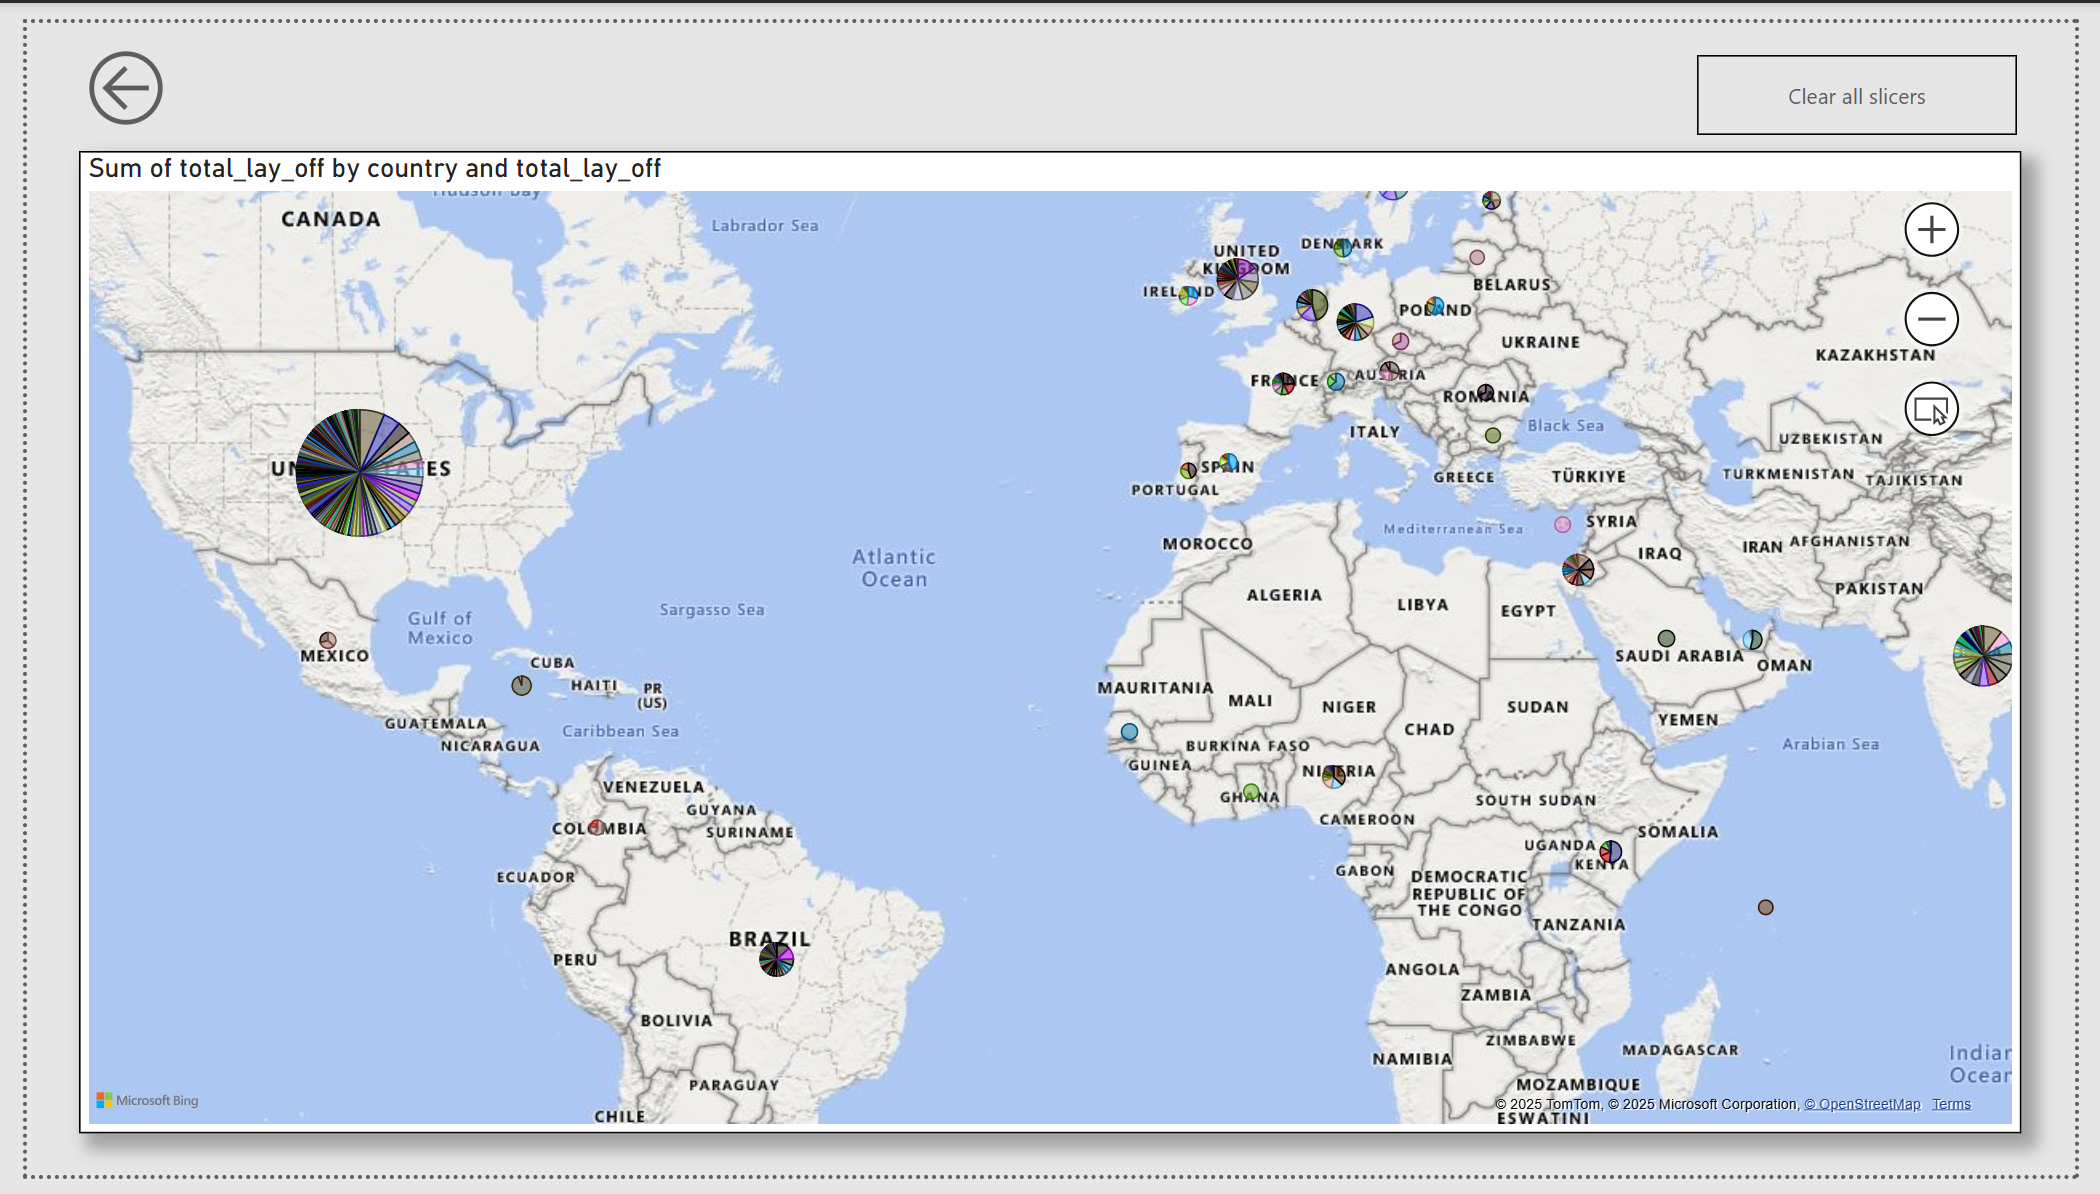

The page's visual inventory and layout, read from the dashboard file:
{"tool":"powerbi","page":{"name":"Country Wise in the World","canvas":[1280,720],"ordinal":3},"visuals":[{"type":"map","fields":{"Category":["Tech Layoffs Working.country"],"Series":["Tech Layoffs Working.total_lay_off"],"Size":["Sum(Tech Layoffs Working.total_lay_off)"]},"box":[32.5,80,1213.8,613.8],"z":0},{"type":"actionButton","box":[32.5,11.2,66.2,58.8],"z":1000},{"type":"actionButton","box":[1043.8,20,200,50],"z":2000}]}

Visuals, with their boxes on the page's 1280x720 design canvas (x1, y1, x2, y2). These are canvas units, not pixel positions in the 2100x1194 screenshot, which may show the page scaled, cropped or inside an application window:
map - Tech Layoffs Working.country x Tech Layoffs Working.total_lay_off: <bbox>32, 80, 1246, 694</bbox>
actionButton: <bbox>32, 11, 99, 70</bbox>
actionButton: <bbox>1044, 20, 1244, 70</bbox>
